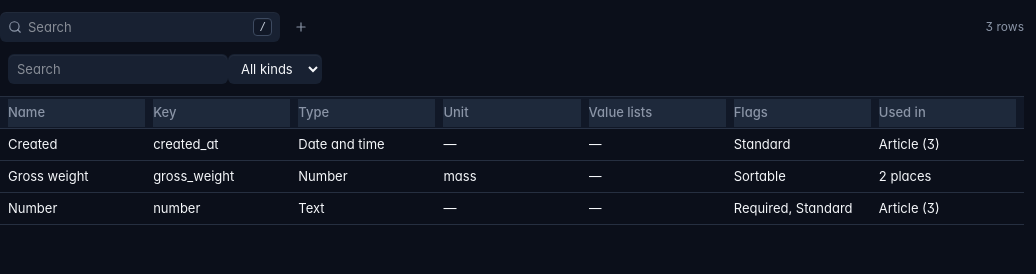
Test: attribute definitions view › adds a draft row from plus and shows Review and save
Click the button named "new attribute" at (301, 27), box x1=286 y1=12 x2=316 y2=42
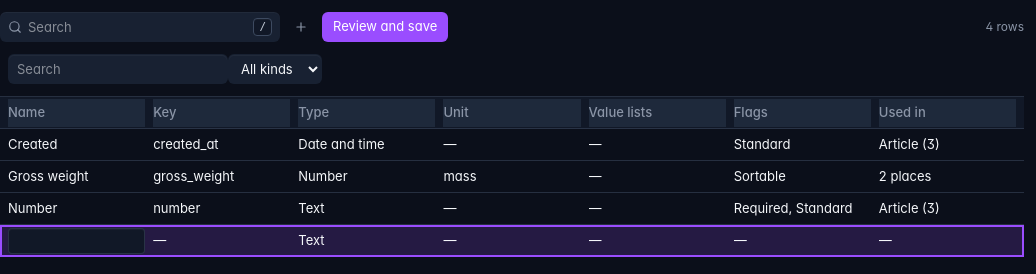
Result: the button "Review and save" is shown at x1=322 y1=12 x2=448 y2=42
